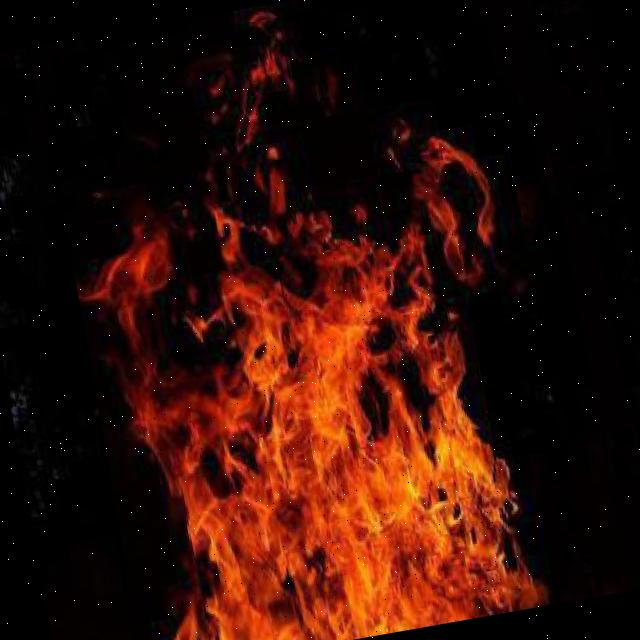fire: (36, 0, 588, 640)
